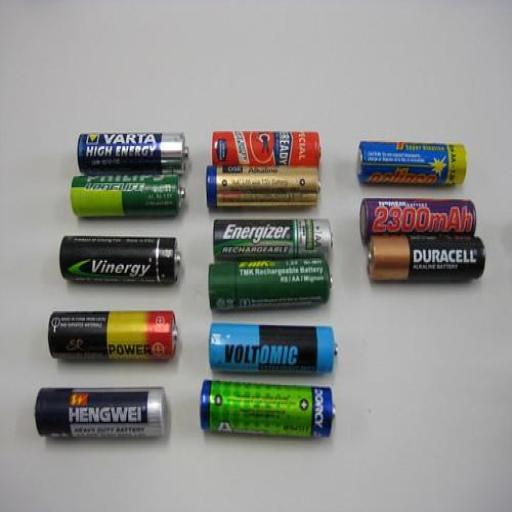battery: (200, 378, 336, 445), (34, 386, 170, 440), (209, 321, 339, 376), (48, 310, 180, 362), (209, 259, 335, 312), (60, 235, 184, 288), (366, 232, 486, 282), (70, 172, 186, 219), (360, 199, 476, 246), (355, 140, 467, 188), (207, 166, 322, 212), (213, 218, 335, 260), (78, 132, 191, 176), (211, 131, 321, 170)
